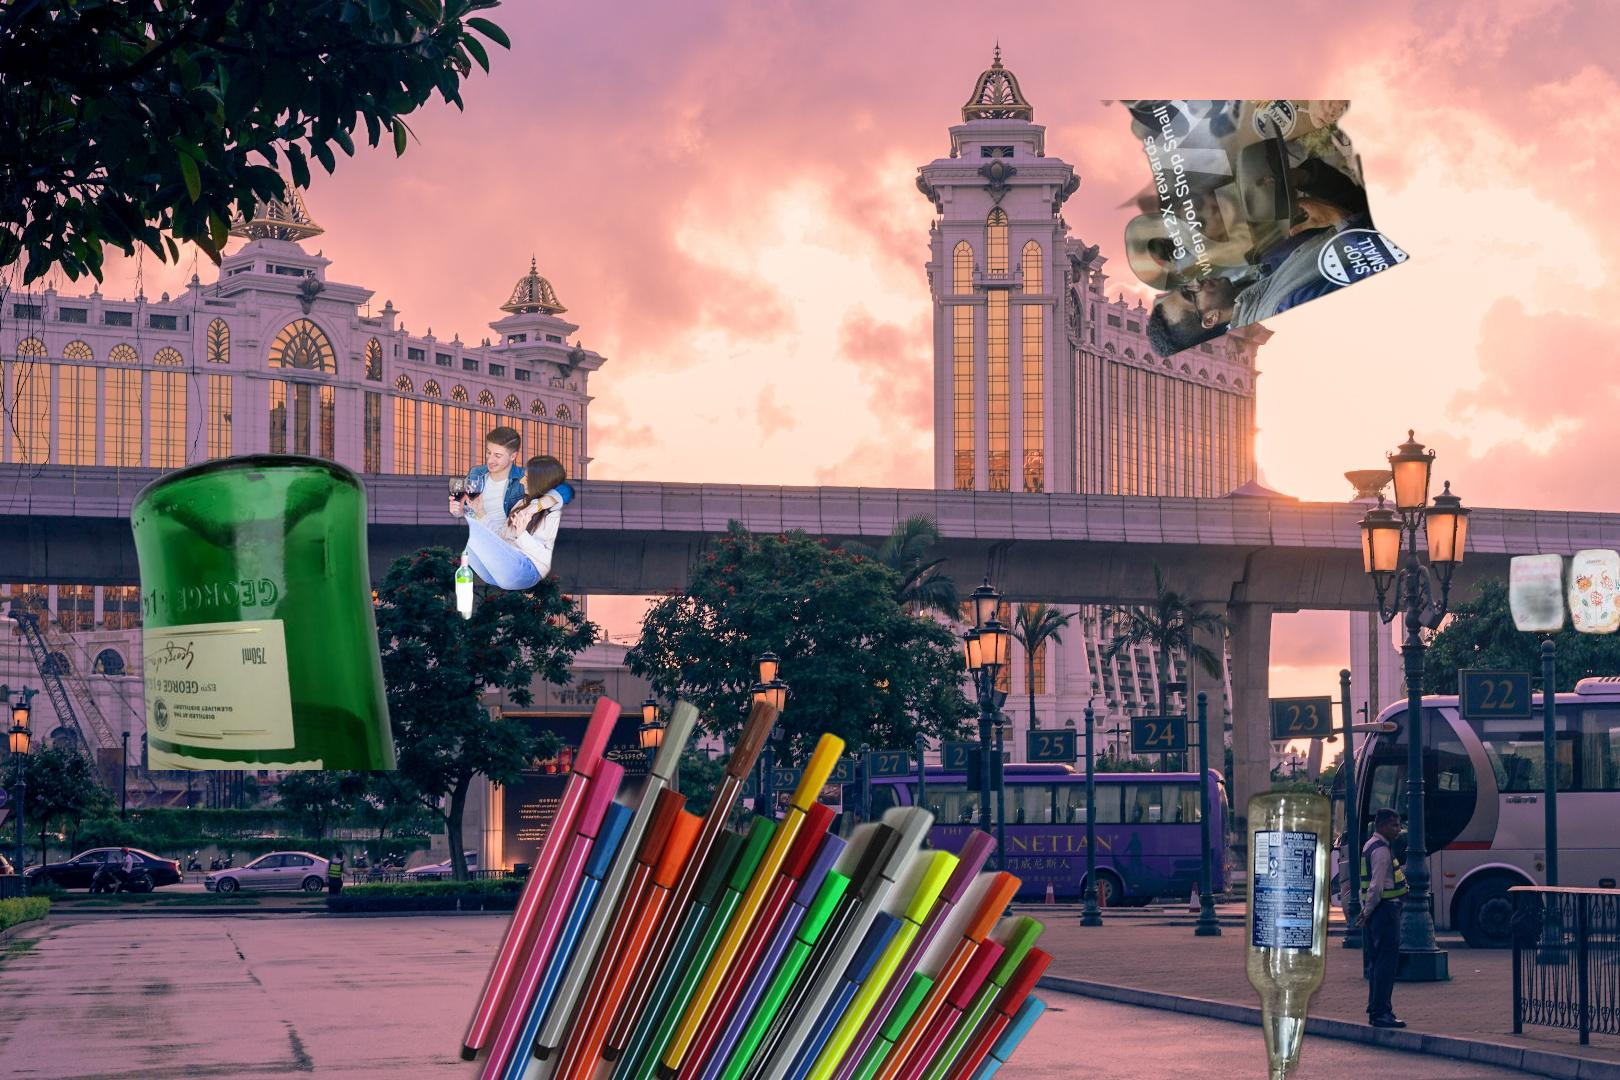glass: (125, 450, 403, 770), (1240, 783, 1337, 1080)
paper: (1097, 100, 1413, 362)
penholder: (452, 689, 1060, 1080)
shoes: (750, 921, 967, 1017)
trash: (1495, 542, 1620, 724)
trashbox-cardboard: (445, 424, 577, 621)
